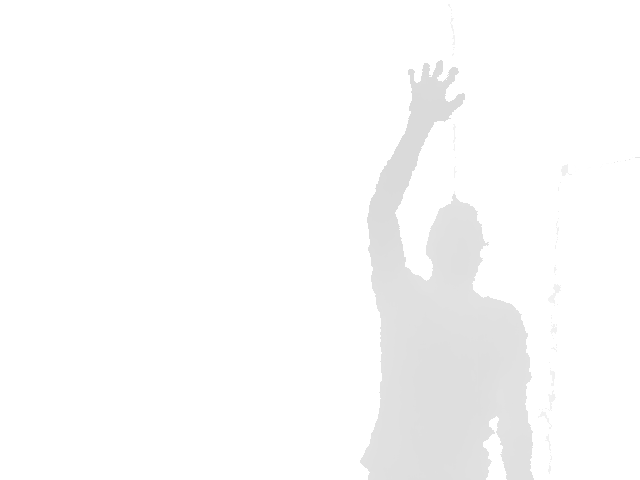hand: (406, 60, 466, 126)
head: (424, 195, 490, 299)
person: (359, 60, 536, 480)
